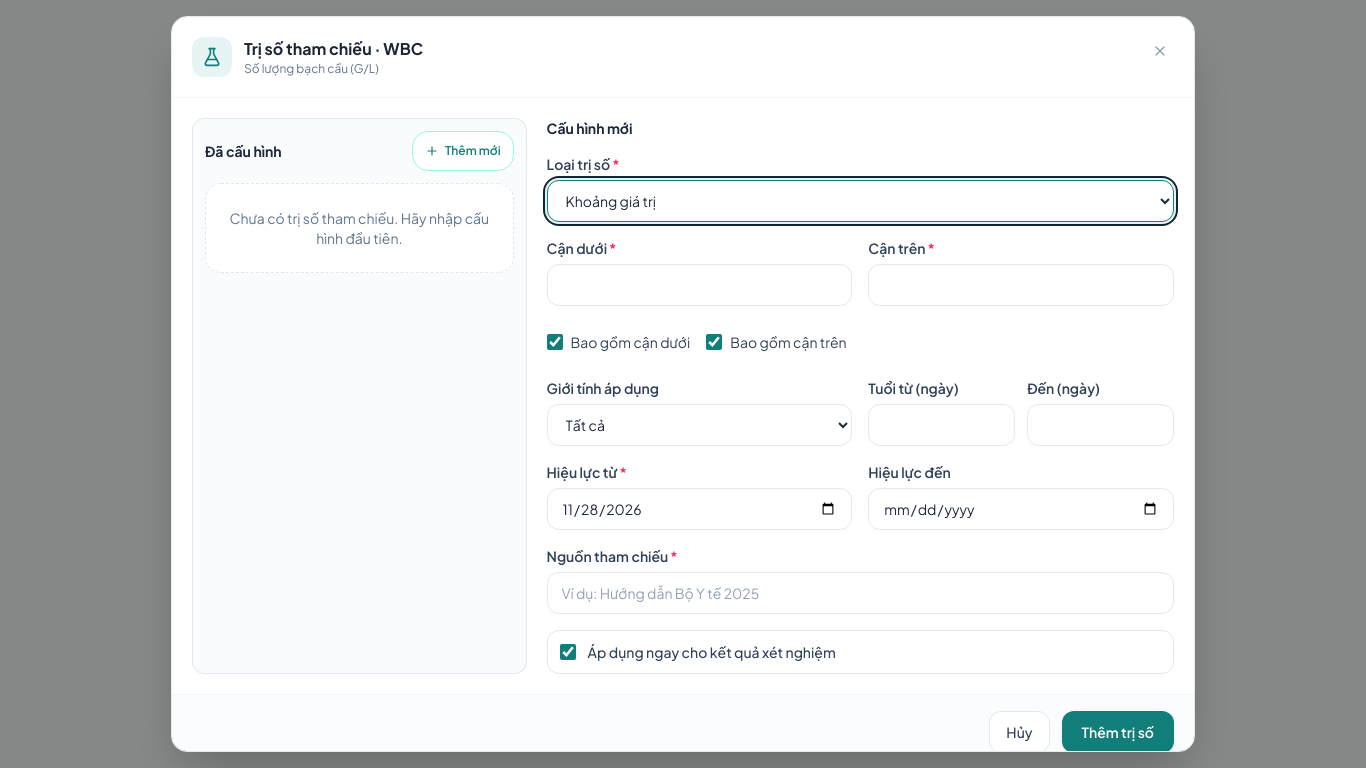
Test: LabReferenceRangeModal › creates an active numeric reference range
Expected: the text "Chưa có trị số tham chiếu. Hãy nhập cấu hình đầu tiên." is shown, [205,183,514,273]
Type "4" into the number field labelled "Cận dưới*". click: coordinates (699, 285)
box: [547,264,852,306]
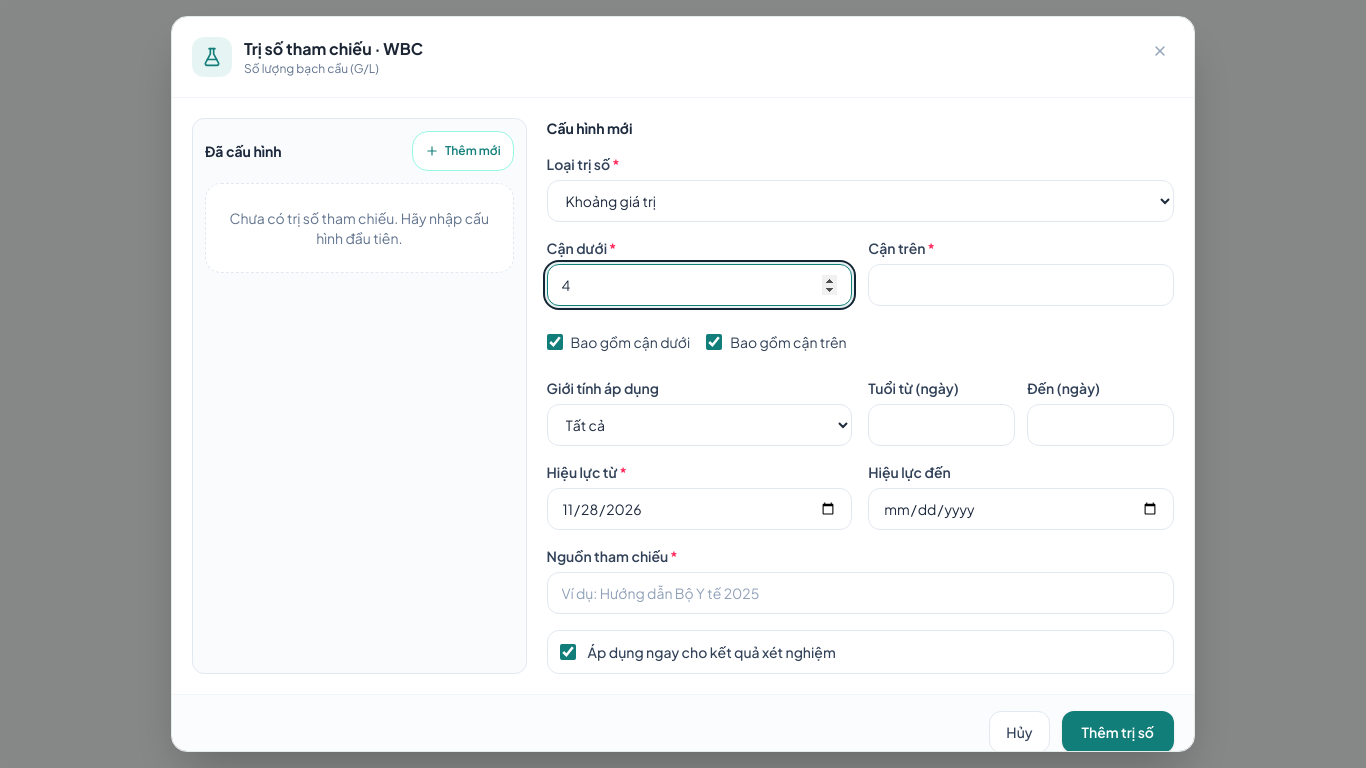
Type "10" into the number field labelled "Cận trên*". click: coordinates (1021, 285)
box: [868,264,1174,306]
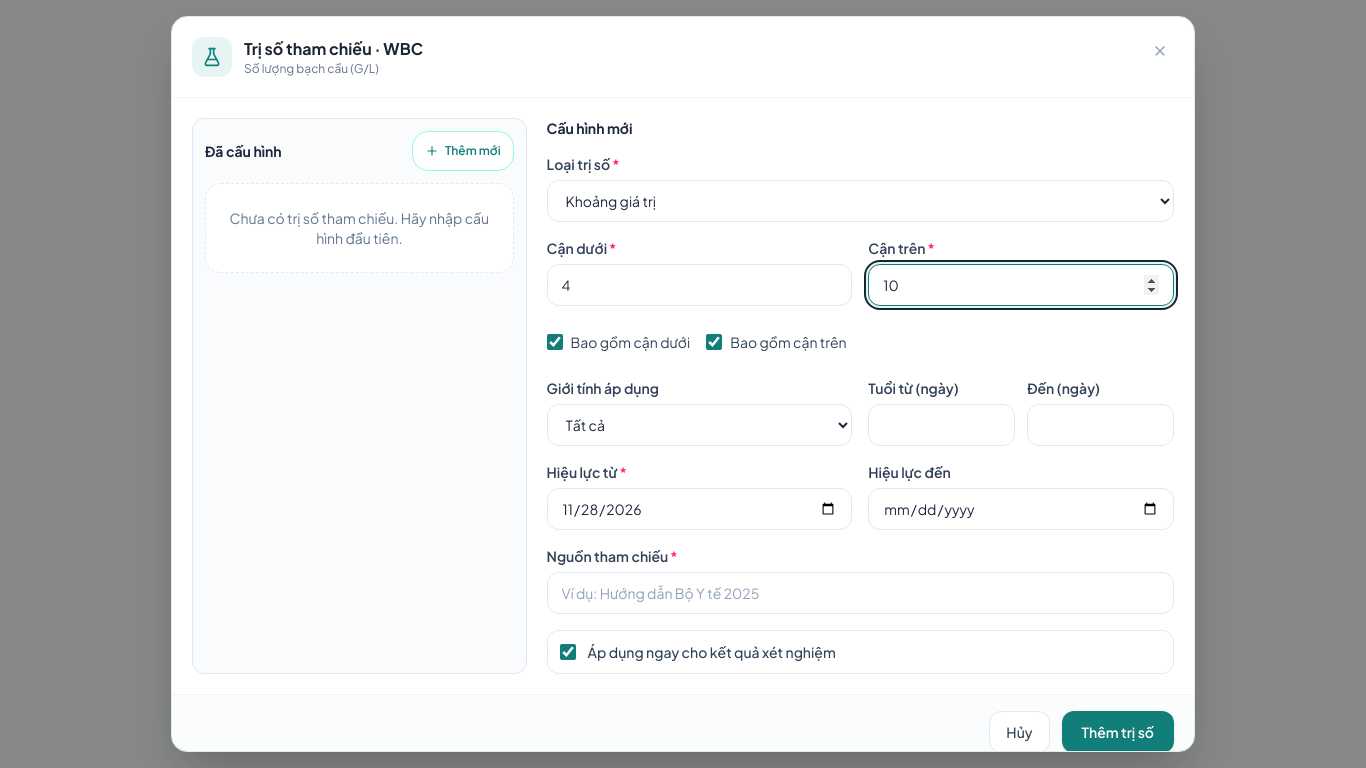
Type "Bộ Y tế" into the field labelled "Nguồn tham chiếu*". click: coordinates (860, 593)
box: [547,572,1174,614]
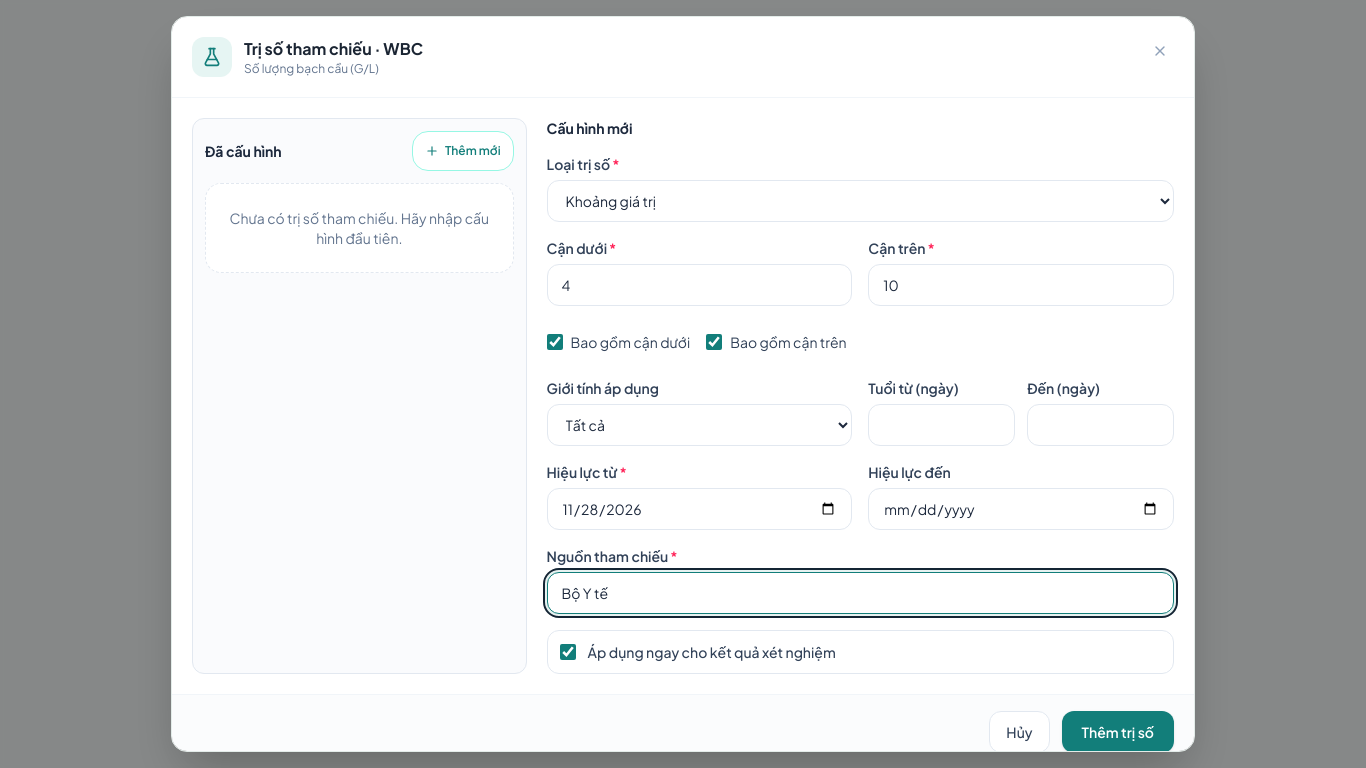
Click the button "Thêm trị số". click: coordinates (1118, 732)
box: [1062,711,1174,753]
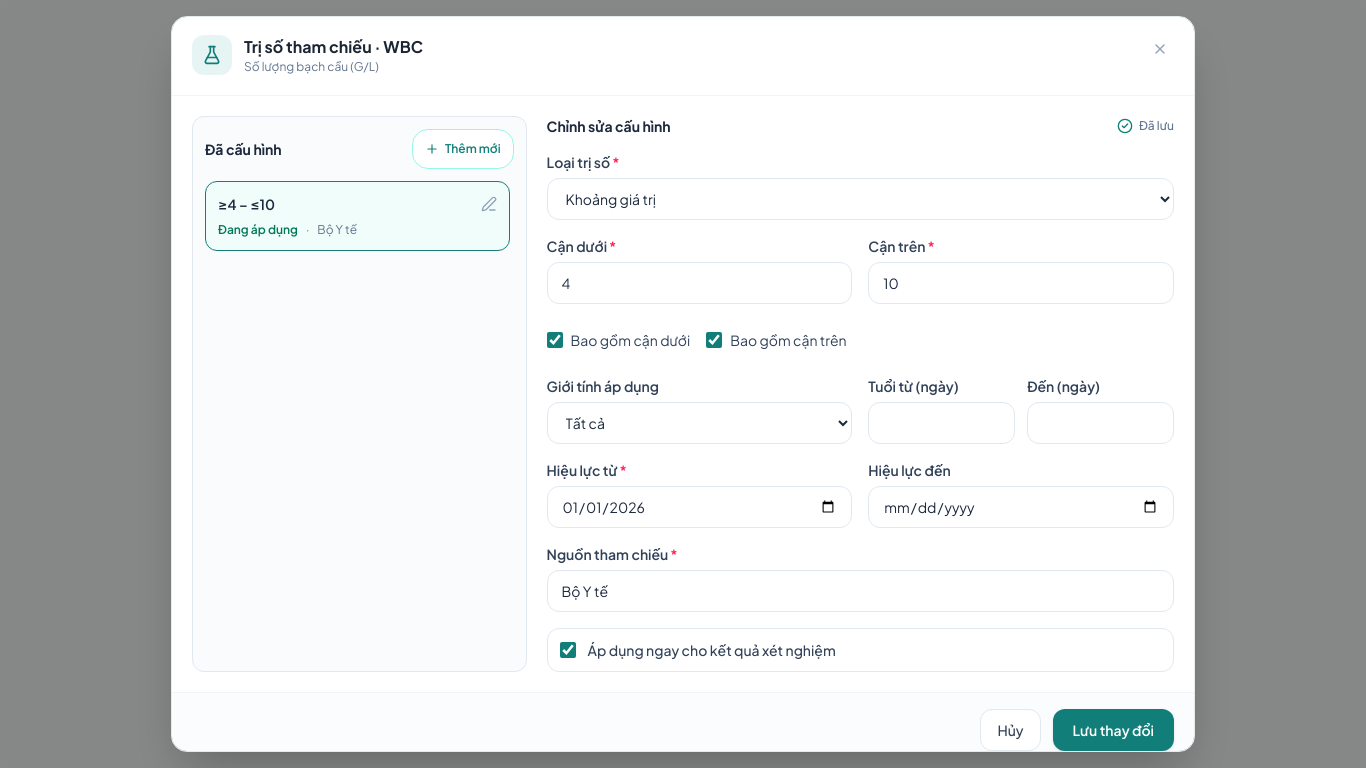
Expected: the text "≥4 – ≤10" is shown, [218,194,275,214]
